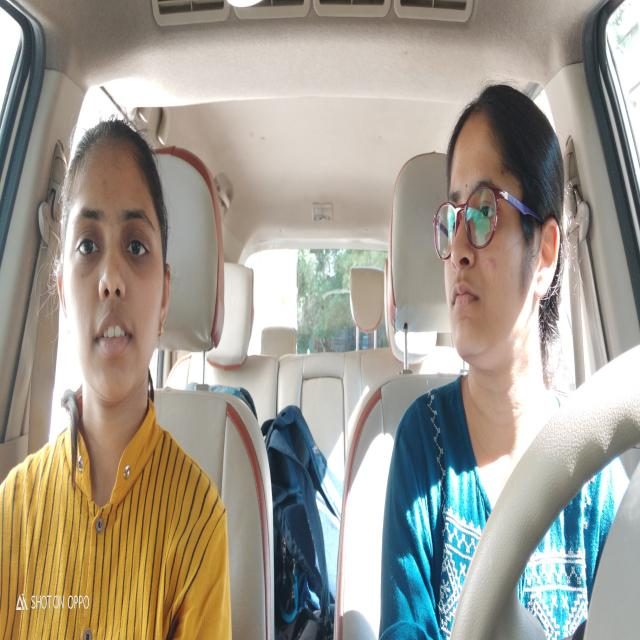LeftRight: (429, 65, 582, 445)
person: (42, 84, 185, 477)
